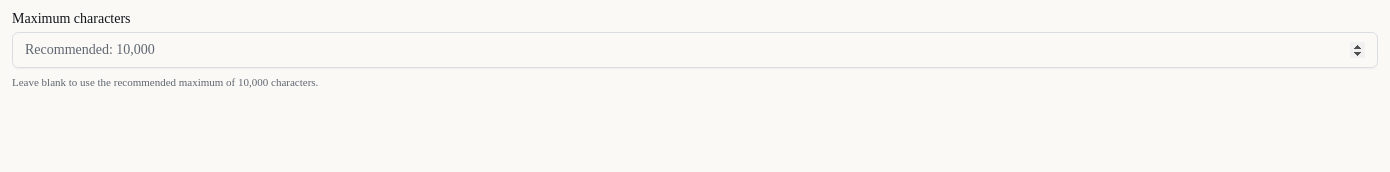
sets a friendly maximum character count
This screenshot has width=1390, height=172.
Expected: the text "recommended maximum of 10,000 characters" is shown, x1=12 y1=76 x2=318 y2=88
Type "750" into the number field labelled "Maximum characters" at [695, 50], box x1=12 y1=32 x2=1378 y2=68
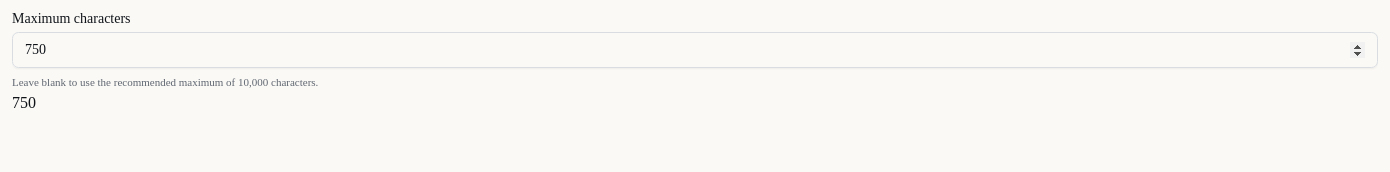
Now the text named "Saved validation settings" reads "750", box x1=12 y1=94 x2=36 y2=110
